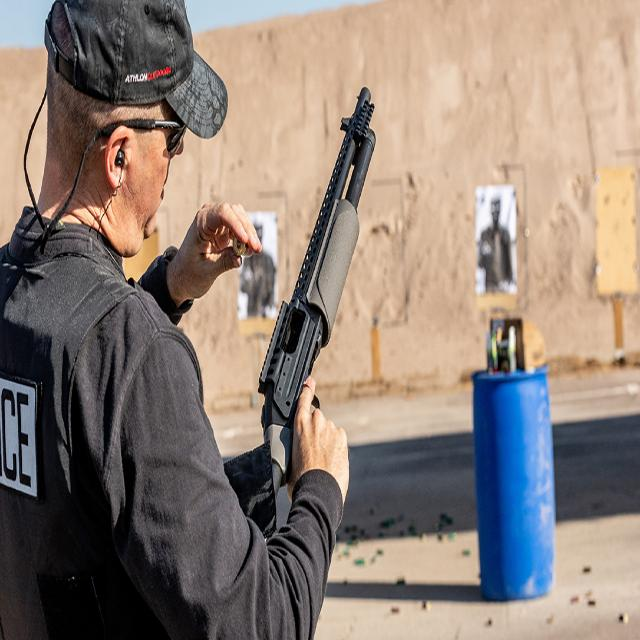ShotGun: (257, 88, 376, 502)
